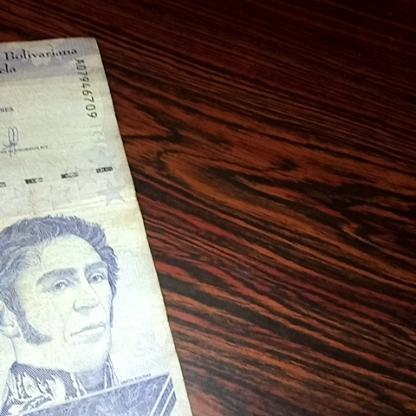ten-front-vef: (0, 34, 198, 416)
